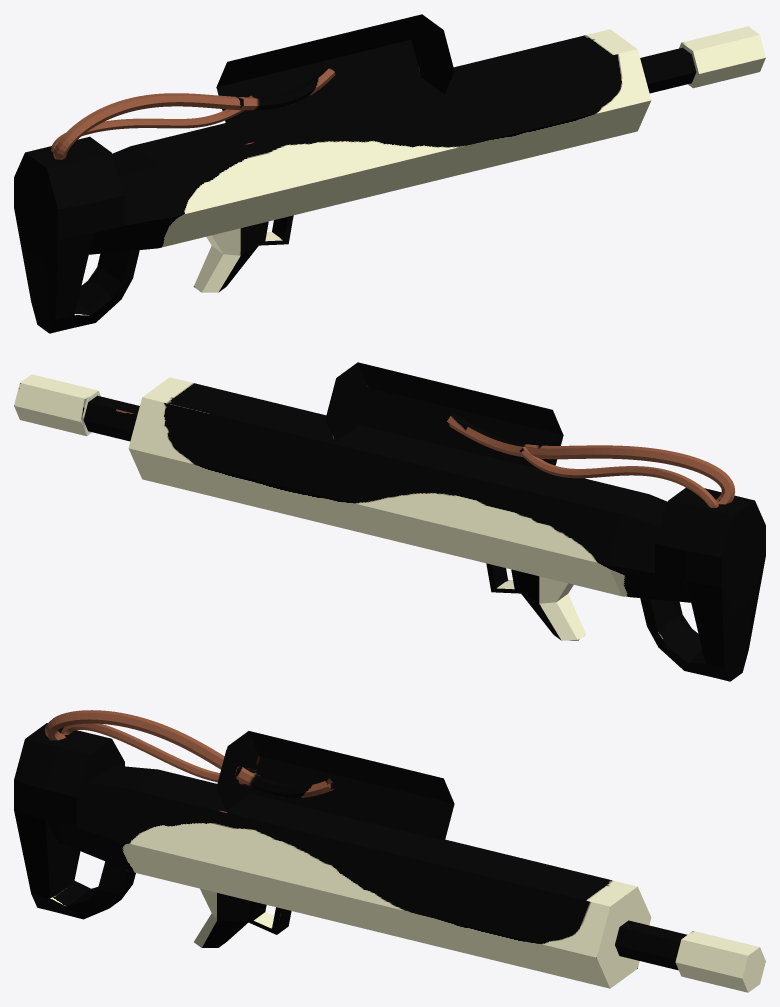
File: FlameThrower.fbx
The picture shows the model from 3 angles, top to bottom: view 1: azimuth 30°, elevation 25°; view 2: azimuth 150°, elevation 25°; view 3: azimuth 330°, elevation 25°; orthographic projection.
Parts seen in each view (by area): view 1: Cylinder.001; view 2: Cylinder.001; view 3: Cylinder.001.
Boxes of the visible parts, x1=… form: Cylinder.001: x1=14, y1=14, x2=765, y2=333; Cylinder.001: x1=14, y1=362, x2=765, y2=681; Cylinder.001: x1=14, y1=710, x2=765, y2=992.
Bounding box in the file's own units: 437 × 124 × 57.85.
Materials: 1 (1 with a texture image).
